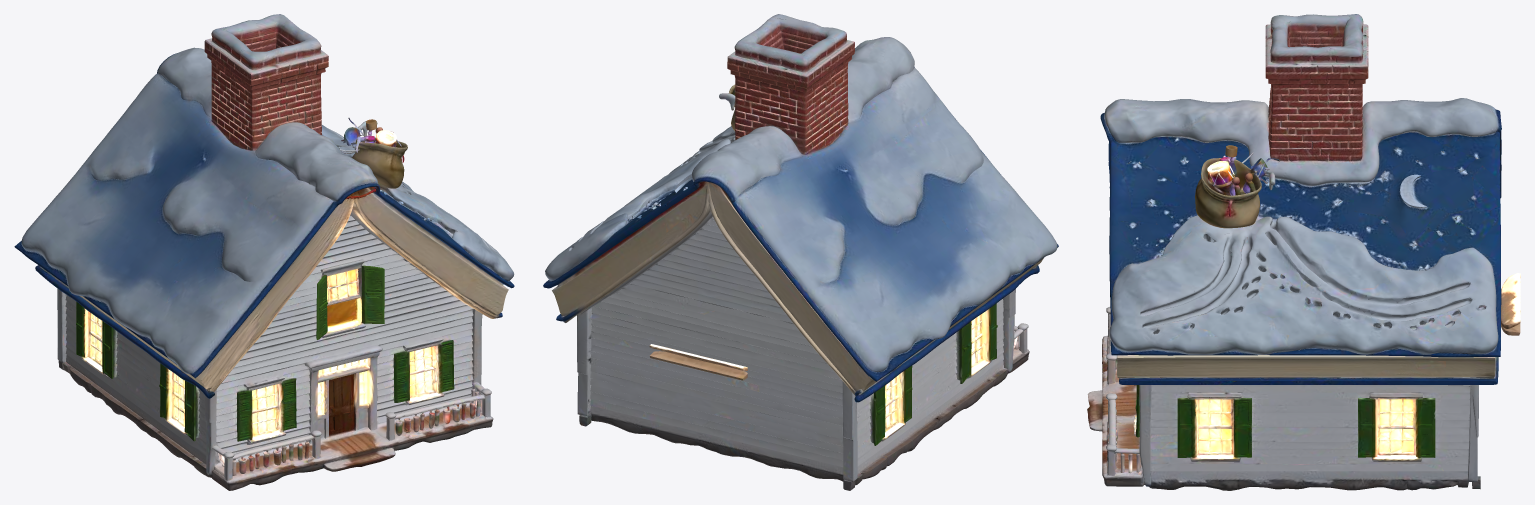
The model's file is st-nicholas.glb.
3 renders of one model, left to right at view 1: azimuth 30°, elevation 25°; view 2: azimuth 150°, elevation 25°; view 3: azimuth 270°, elevation 25°, orthographic. The views are drawn at different scales.
Parts seen in each view (by area): view 1: model; view 2: model; view 3: model.
Boxes of the visible parts, <box> form: model: <box>14,14,514,490</box>; model: <box>543,14,1058,490</box>; model: <box>1087,14,1520,490</box>.
Size of the model in its own units: 1.85 by 1.89 by 1.89.
Materials: 1 (1 with a texture image).
